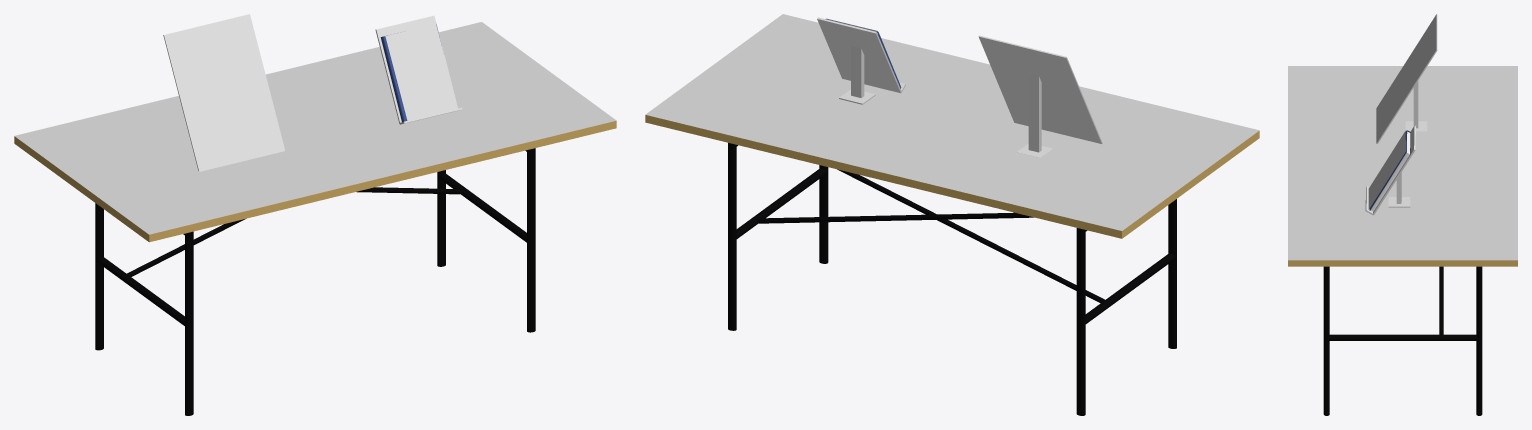
Rendered from Buch.gltf.
3 views of the same model, side by side, from view 1: azimuth 30°, elevation 25°; view 2: azimuth 150°, elevation 25°; view 3: azimuth 270°, elevation 25° (orthographic). The views are drawn at different scales.
Visible parts, largest first — view 1: Tisch, _InfoImage, _Image, StandBuch, Buch_Cube.001; view 2: Tisch, Text_Hintergrund, StandBuch, Cube.006, Cube.008; view 3: Tisch, _InfoImage, _Image, Buch_Cube.001, StandBuch, Cube.006, Cube.008, Text_Hintergrund.
Part boxes in pixels (x1,y1,x2,y2): Tisch: (14,22,616,415); _InfoImage: (164,14,284,171); _Image: (385,23,457,120); StandBuch: (375,15,462,124); Buch_Cube.001: (380,24,441,121); Tisch: (645,14,1259,415); Text_Hintergrund: (978,35,1102,143); StandBuch: (817,17,905,93); Cube.006: (1017,74,1052,157); Cube.008: (839,46,875,104); Tisch: (1288,66,1517,415); _InfoImage: (1376,15,1436,143); _Image: (1368,131,1405,209); Buch_Cube.001: (1369,130,1410,211); StandBuch: (1365,125,1415,215); Cube.006: (1405,81,1427,131); Cube.008: (1388,172,1410,207); Text_Hintergrund: (1376,14,1437,143).
Bounding box in the file's own units: 1.8 × 1.19 × 0.9.
